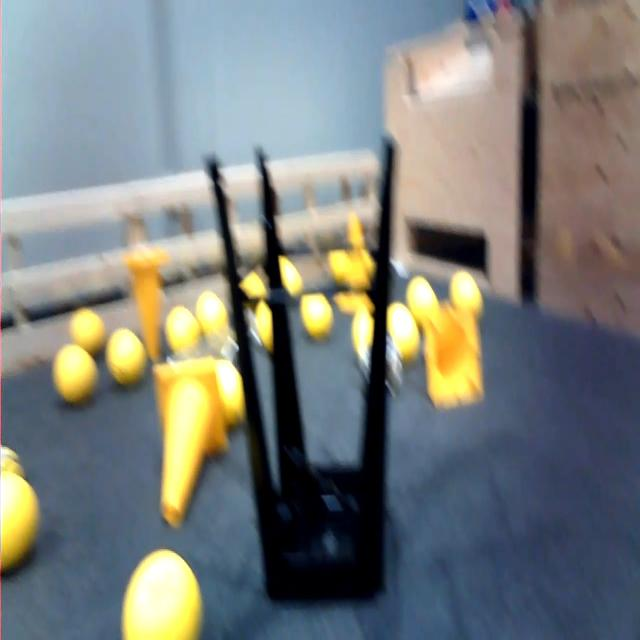fuel: (119, 538, 210, 640), (0, 461, 40, 581), (47, 339, 102, 412), (210, 352, 255, 431), (96, 326, 148, 392), (384, 296, 422, 372), (161, 300, 204, 366), (191, 280, 234, 346), (440, 261, 490, 316), (298, 280, 339, 342), (406, 268, 451, 320), (69, 300, 108, 359), (351, 309, 384, 367), (254, 295, 283, 356)
